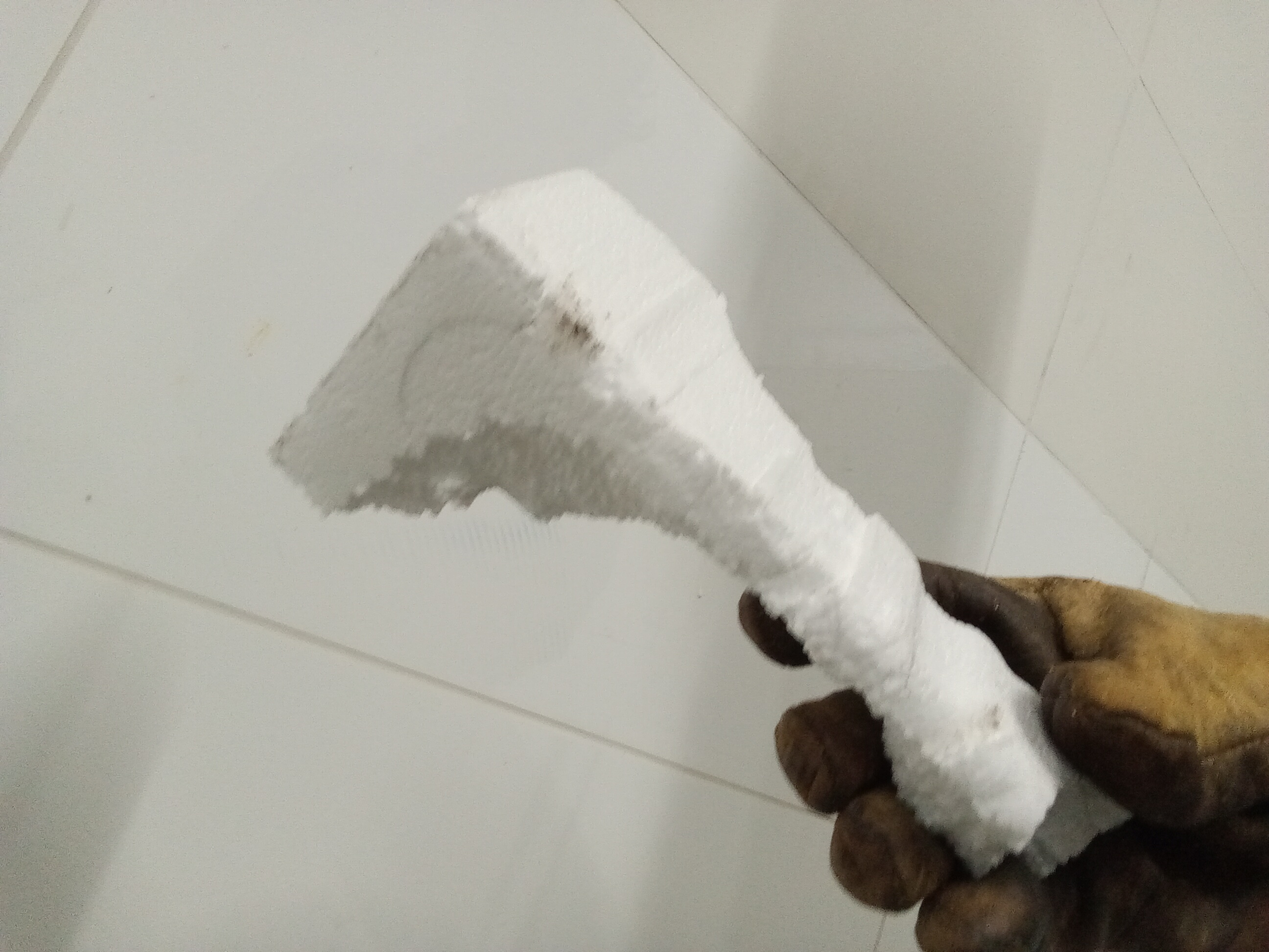Ordinario: (268, 163, 1059, 880)
